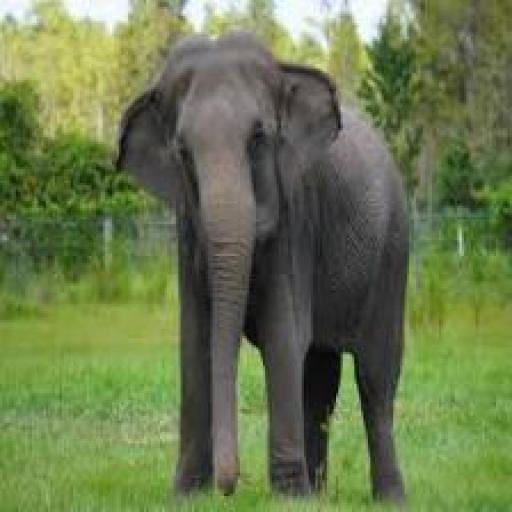Elephant: (110, 27, 409, 512)
